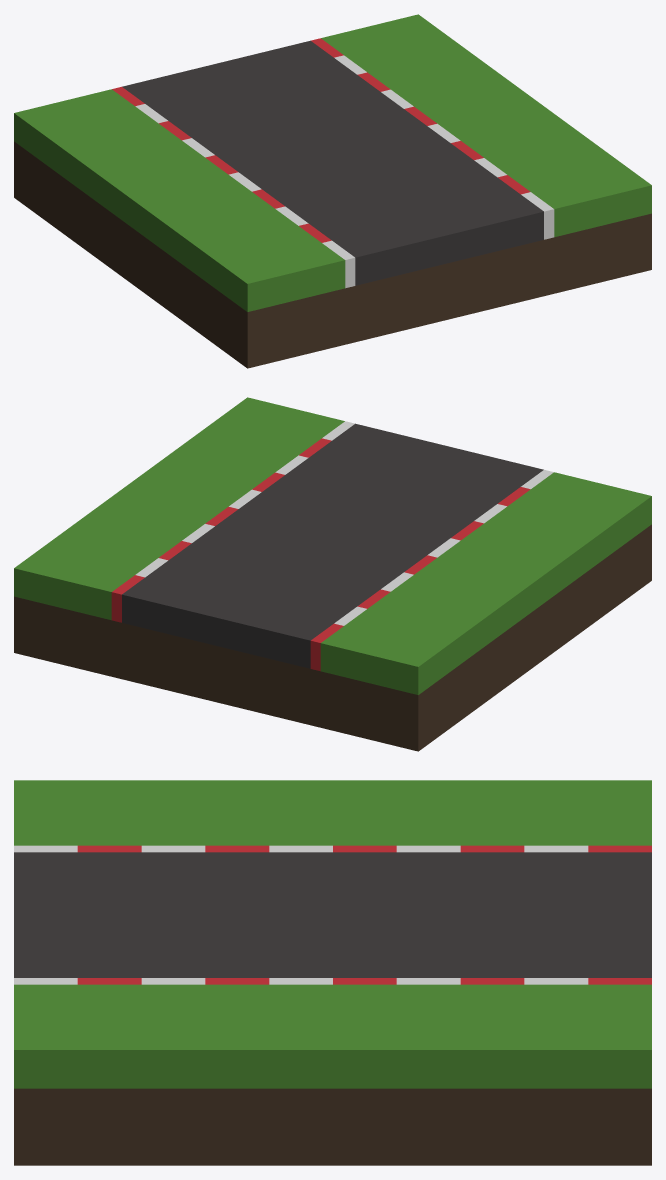
File: tiles_tile-race-track-straight.fbx
3 views of the same model, one above another, from view 1: azimuth 30°, elevation 25°; view 2: azimuth 150°, elevation 25°; view 3: azimuth 270°, elevation 25° (orthographic). The views are drawn at different scales.
Visible parts, largest first — view 1: tiles_tile_race_track_straight; view 2: tiles_tile_race_track_straight; view 3: tiles_tile_race_track_straight.
Part boxes in pixels (x1,y1,x2,y2): tiles_tile_race_track_straight: [14, 14, 651, 368]; tiles_tile_race_track_straight: [14, 397, 651, 751]; tiles_tile_race_track_straight: [14, 780, 651, 1165].
Bounding box in the file's own units: 200 × 40 × 200.
